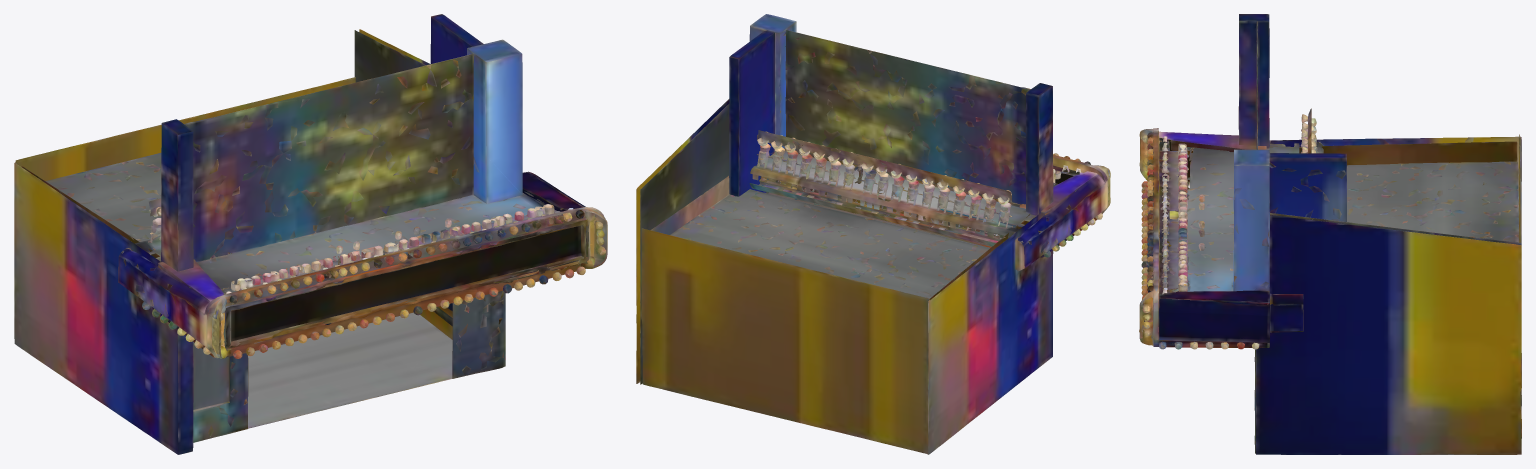
File: facade-neon-arcade.glb
3 renders of one model, left to right at view 1: azimuth 30°, elevation 25°; view 2: azimuth 150°, elevation 25°; view 3: azimuth 270°, elevation 25°, orthographic. The views are drawn at different scales.
Parts seen in each view (by area): view 1: geometry_0; view 2: geometry_0; view 3: geometry_0.
Part boxes in pixels (left/top/right/bottom): geometry_0: left=14, top=14, right=607, bottom=454; geometry_0: left=636, top=14, right=1110, bottom=454; geometry_0: left=1139, top=14, right=1521, bottom=454.
Bounding box in the file's own units: 1 × 0.7712 × 0.9173.
Materials: 1 (1 with a texture image).
